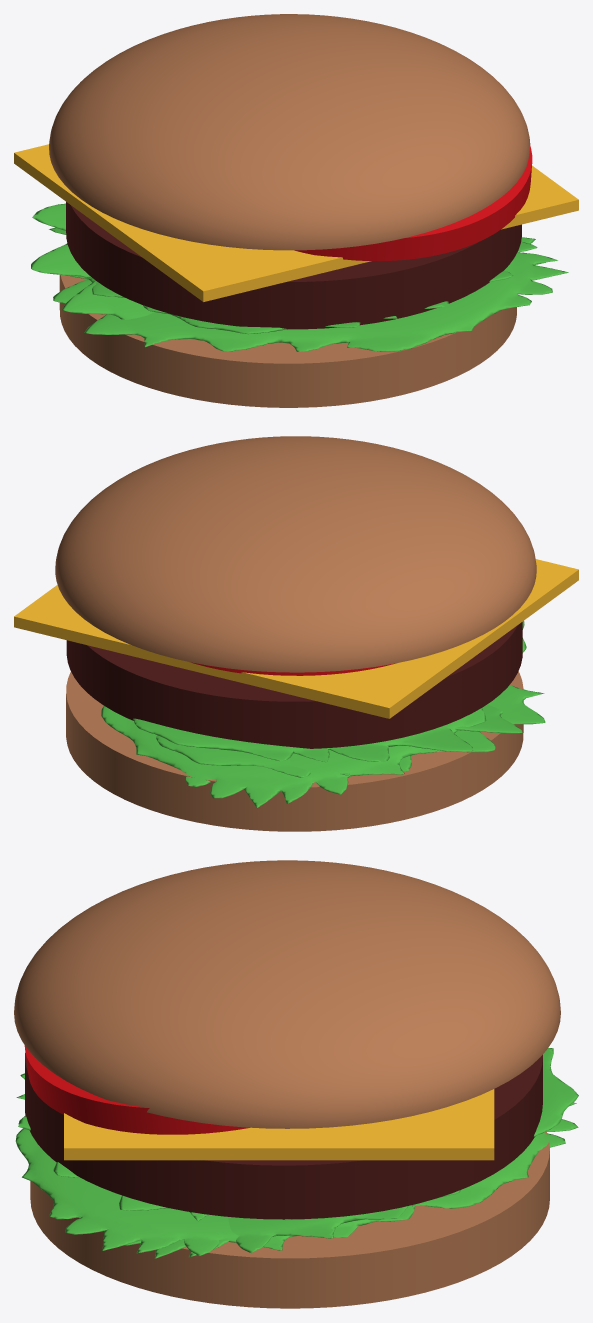
File: burger.fbx
3 renders of one model, top to bottom at view 1: azimuth 30°, elevation 25°; view 2: azimuth 150°, elevation 25°; view 3: azimuth 270°, elevation 25°, orthographic. The views are drawn at different scales.
Visible parts, largest first — view 1: root (×8); view 2: root (×8); view 3: root (×8).
Boxes of the visible parts, x1=… form: root (×8): x1=14, y1=14, x2=578, y2=407; root (×8): x1=14, y1=436, x2=578, y2=831; root (×8): x1=14, y1=860, x2=578, y2=1308.
Size of the model in its own units: 0.4418 by 0.2436 by 0.4366.
Materials: 7 (3 with a texture image).
